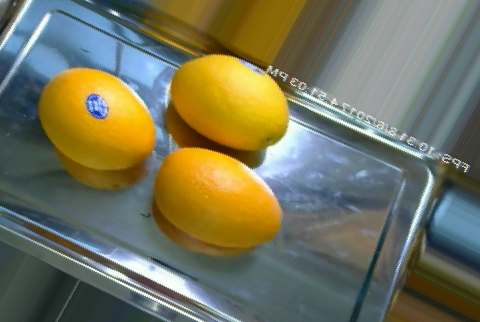Orange: (153, 145, 282, 247), (39, 65, 156, 172), (170, 53, 289, 151)
